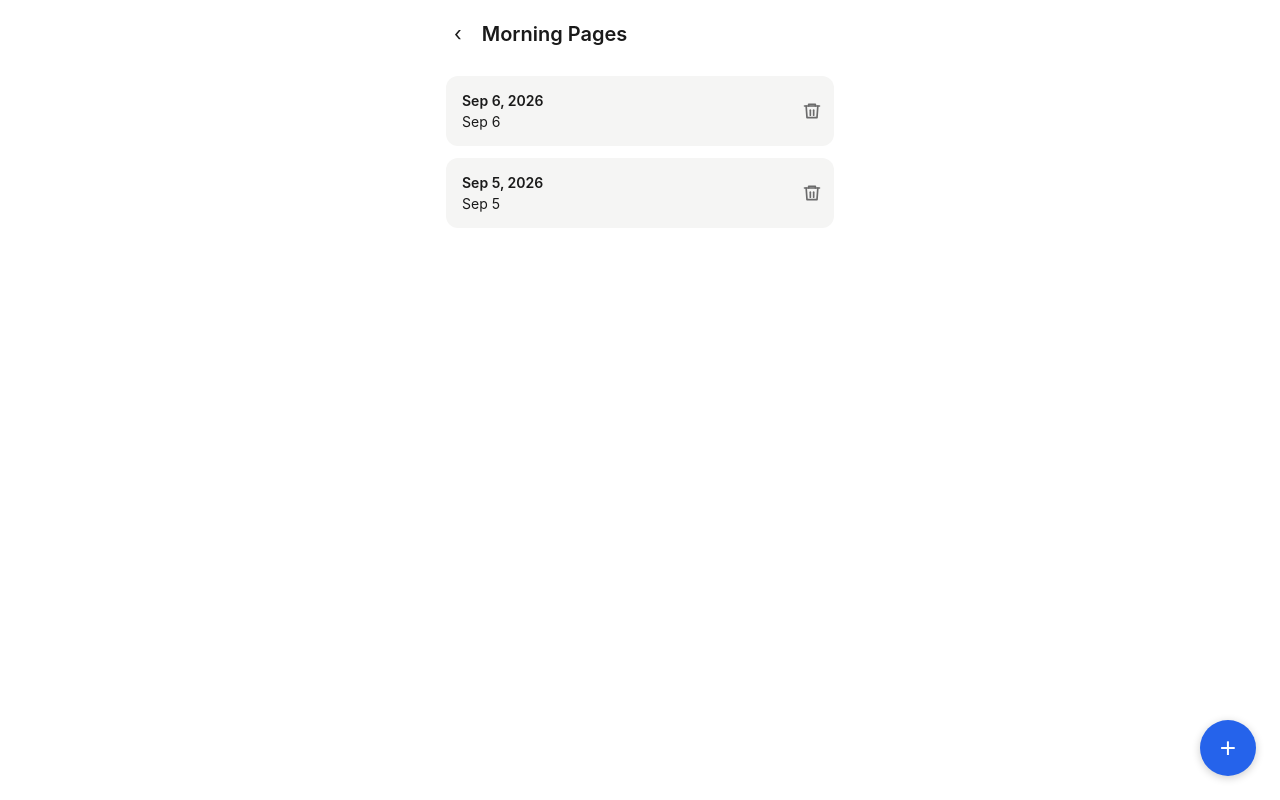
Test: JournalPage › deleting › confirming removes the row and sends the delete
This screenshot has width=1280, height=800.
Click the button named "Delete entry from Sep 6" at (812, 111), box left=790, top=89, right=834, bottom=133
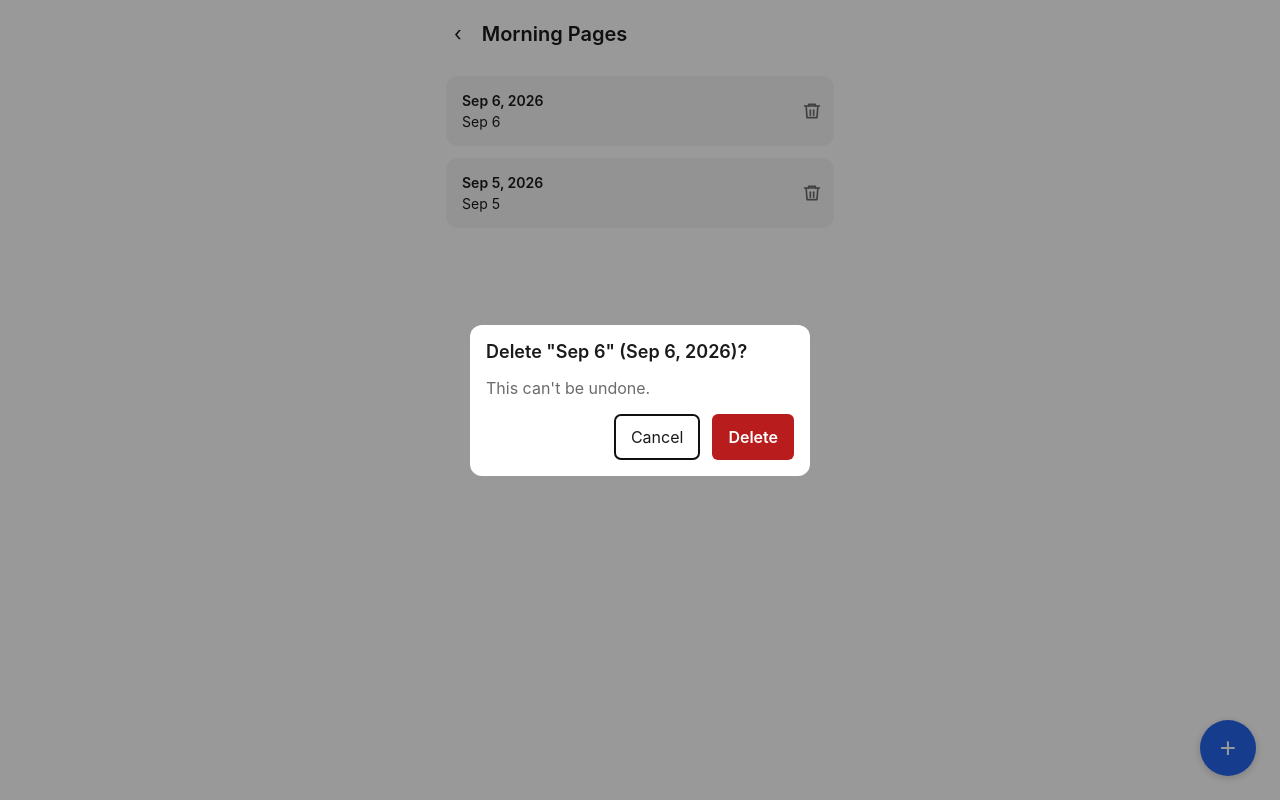
Expected: the dialog "Sep 6" is shown, left=470, top=324, right=810, bottom=476
Click the button "Delete" at (753, 436), box left=712, top=414, right=794, bottom=460
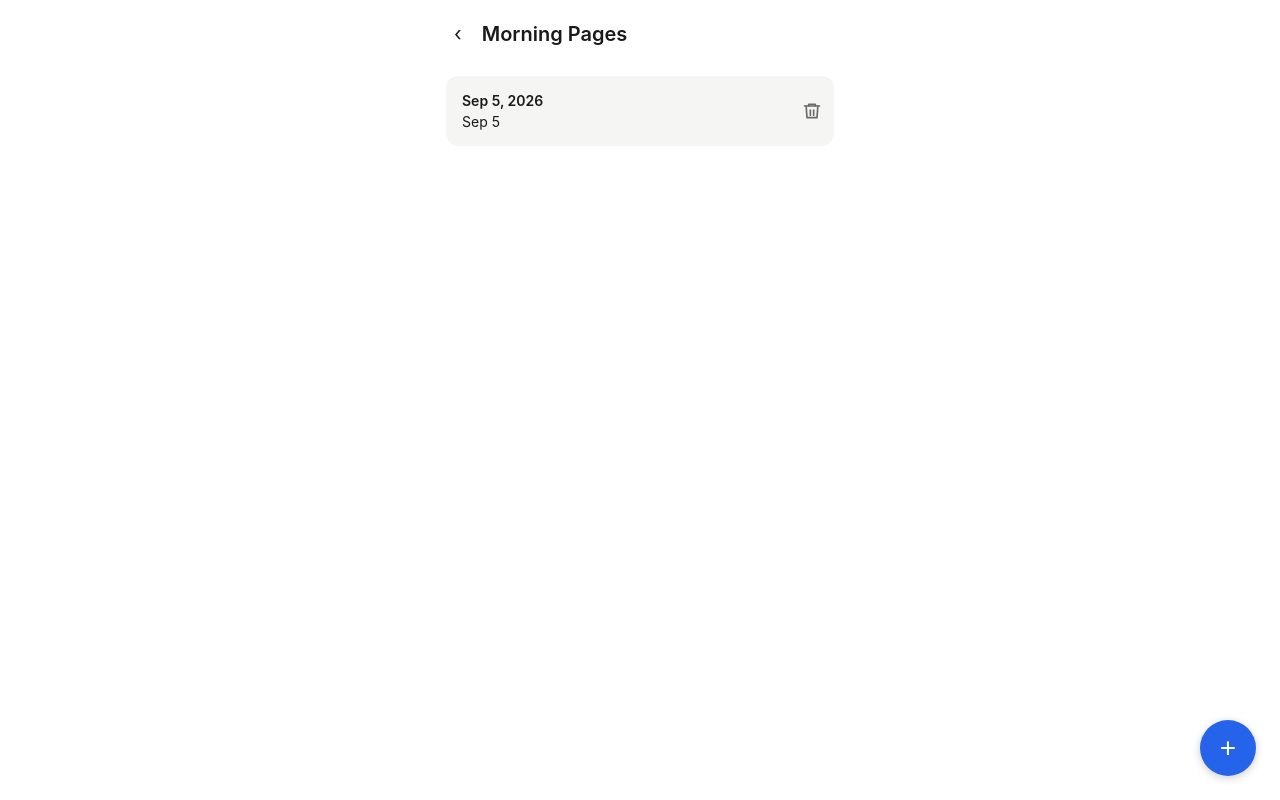
Expected: the text "Sep 5" is shown, left=462, top=113, right=500, bottom=130
Expected: the button "Sep 6" is gone
Expected: the dialog is gone
